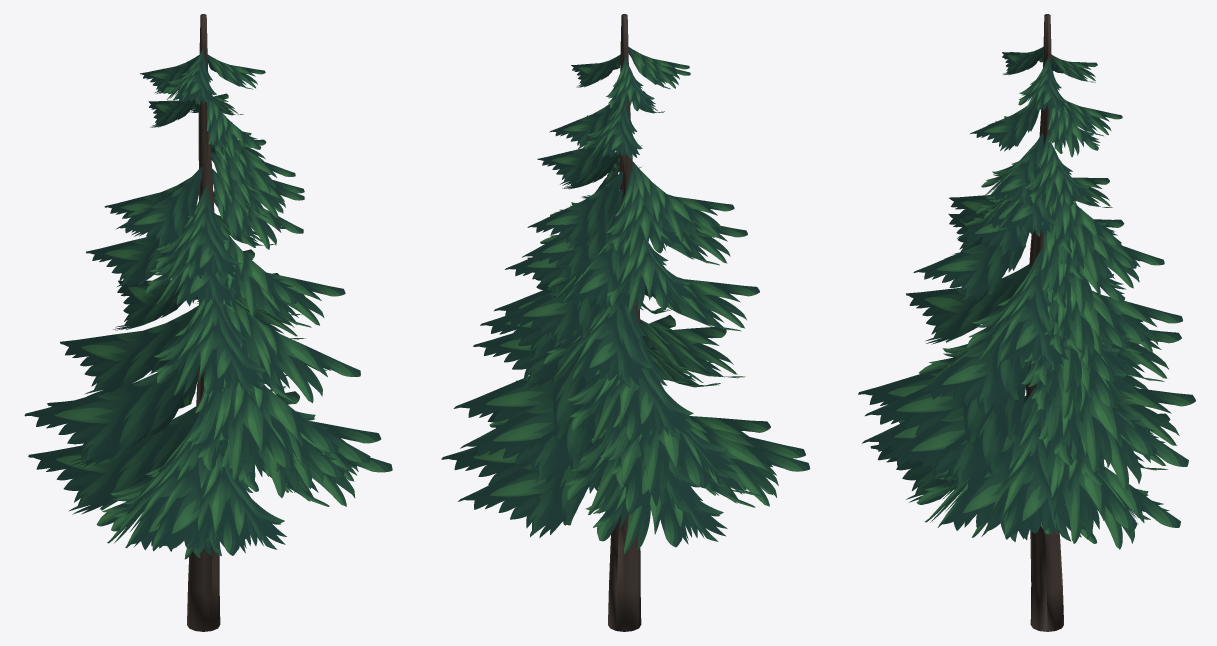
3 renders of one model, left to right at view 1: azimuth 30°, elevation 25°; view 2: azimuth 150°, elevation 25°; view 3: azimuth 270°, elevation 25°, orthographic.
Parts seen in each view (by area): view 1: AR1_LOD00; view 2: AR1_LOD00; view 3: AR1_LOD00.
Boxes of the visible parts, x1=… form: AR1_LOD00: x1=24, y1=14, x2=392, y2=631; AR1_LOD00: x1=441, y1=14, x2=810, y2=631; AR1_LOD00: x1=858, y1=14, x2=1195, y2=631.
Size of what is drawn, in the model's own units: 1416 by 2698 by 1422.
